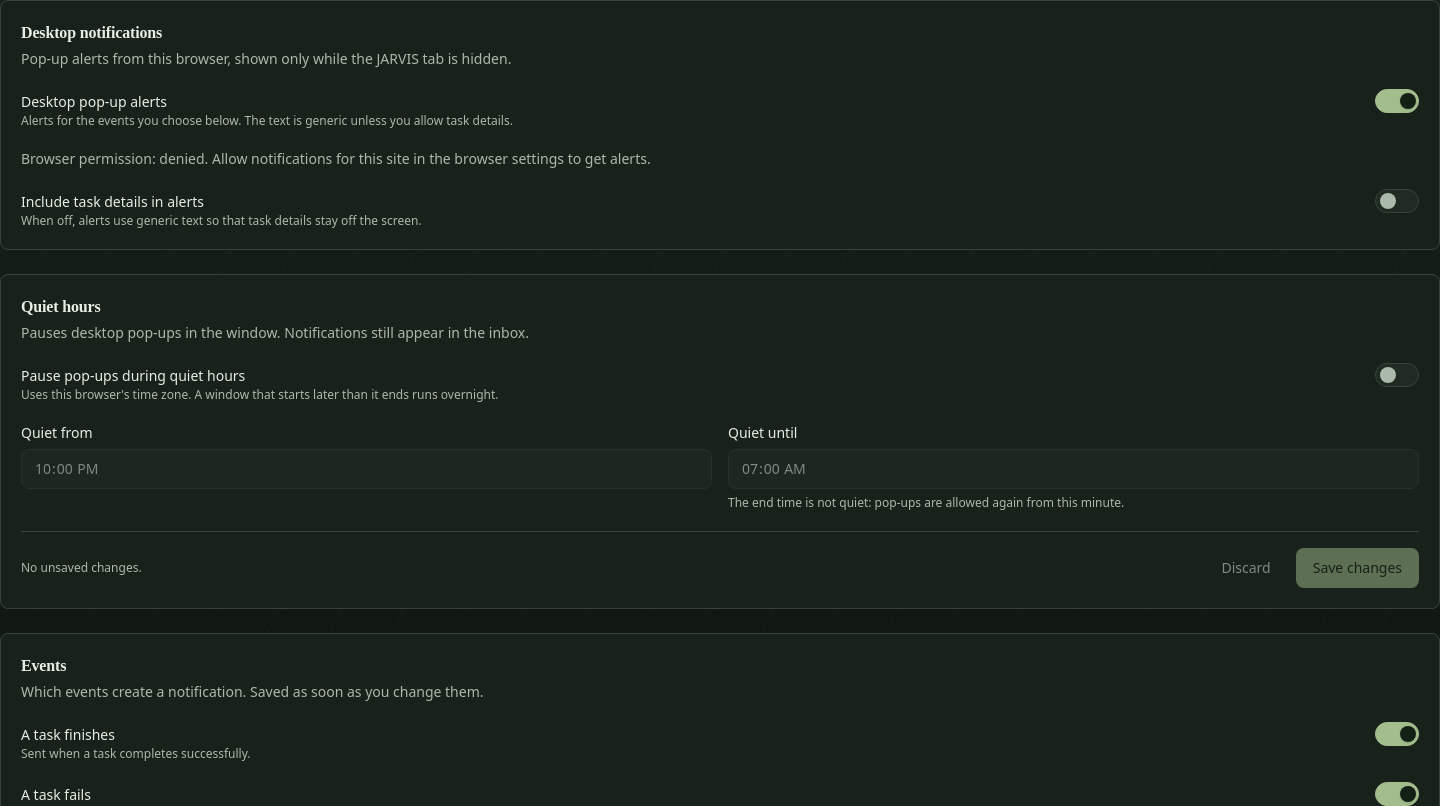
it: quiet hours settings form › refuses a window whose start and end are the same
The width and height of the screenshot is (1440, 806).
Click the switch named "Pause pop-ups during quiet hours" in the row of "Pause pop-ups during quiet hours" at point(1397, 375), box [1375, 363, 1419, 387]
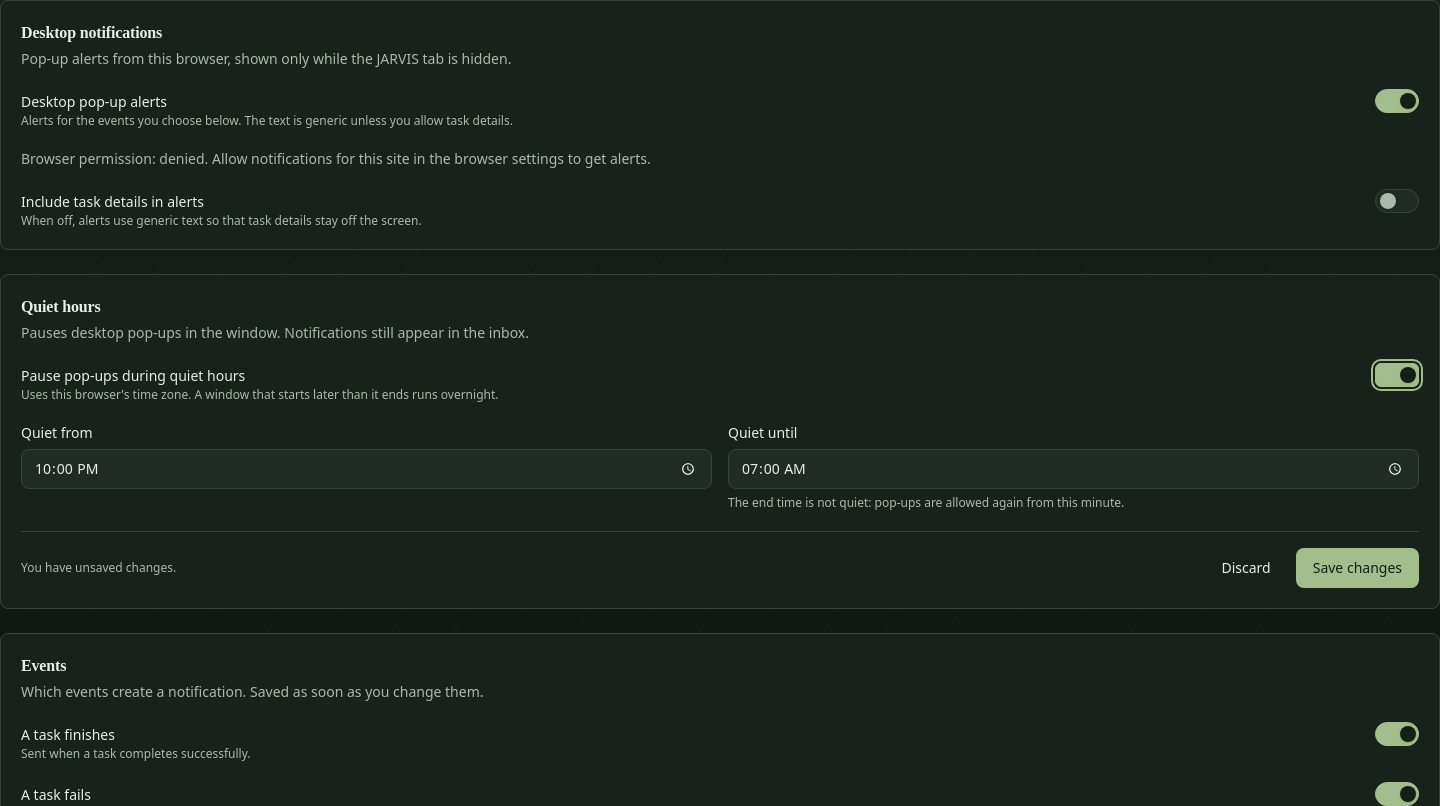
Replace the text in the time field labelled "Quiet from" with "07:00" at point(366, 469), box [21, 449, 712, 489]
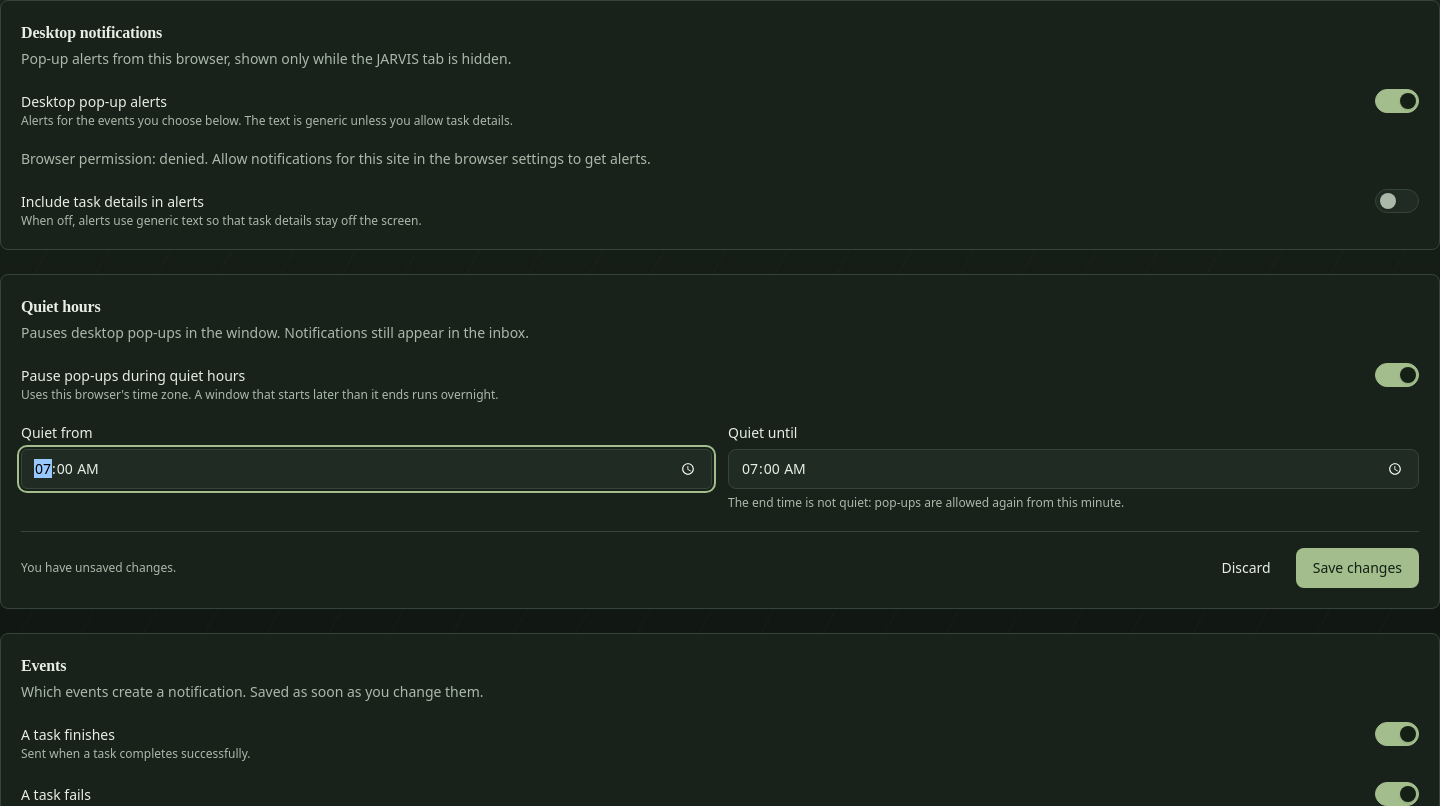
Click the button "Save changes" at point(1357, 568), box [1296, 548, 1419, 588]
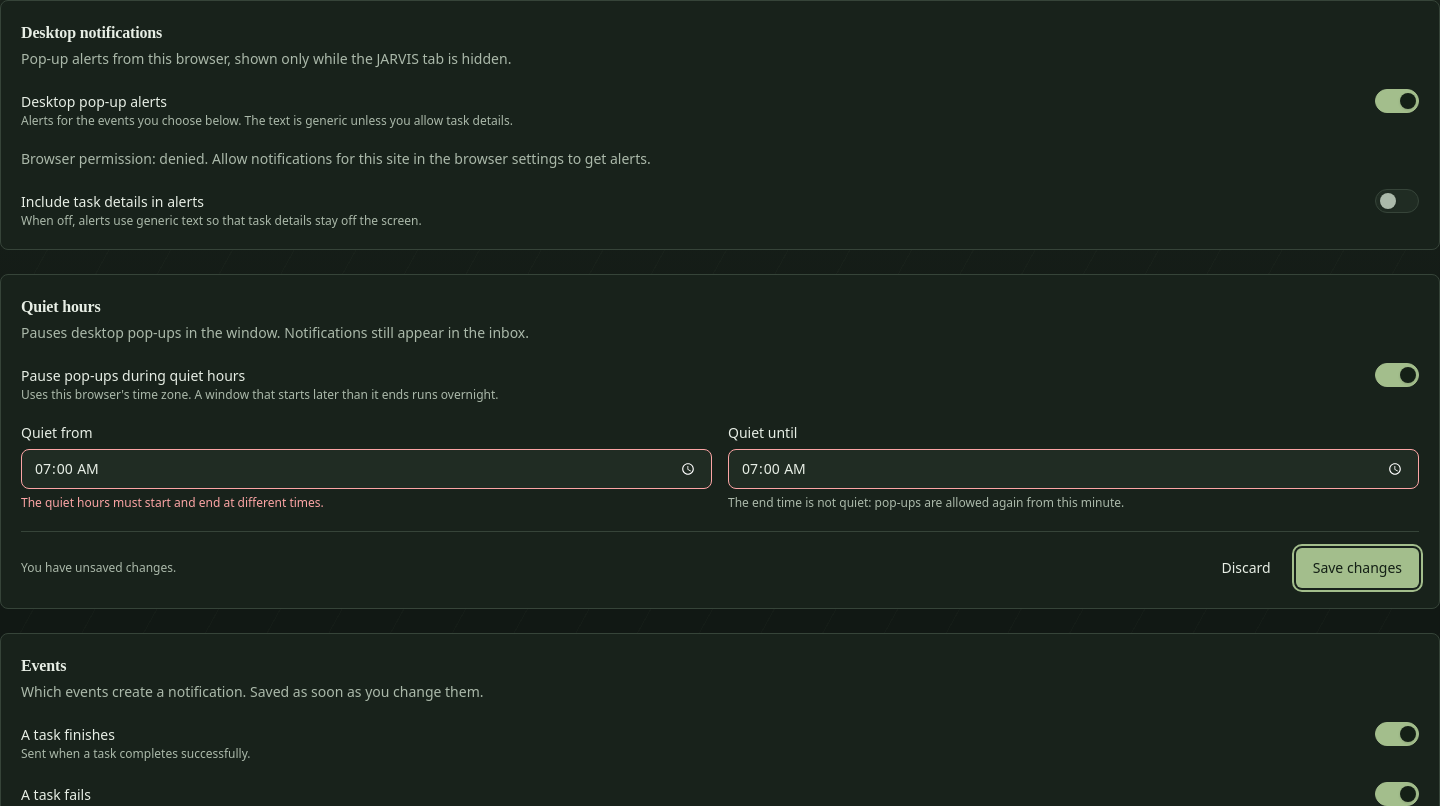
Now the text "The quiet hours must start and end at different times." is shown, box [21, 494, 324, 511]
